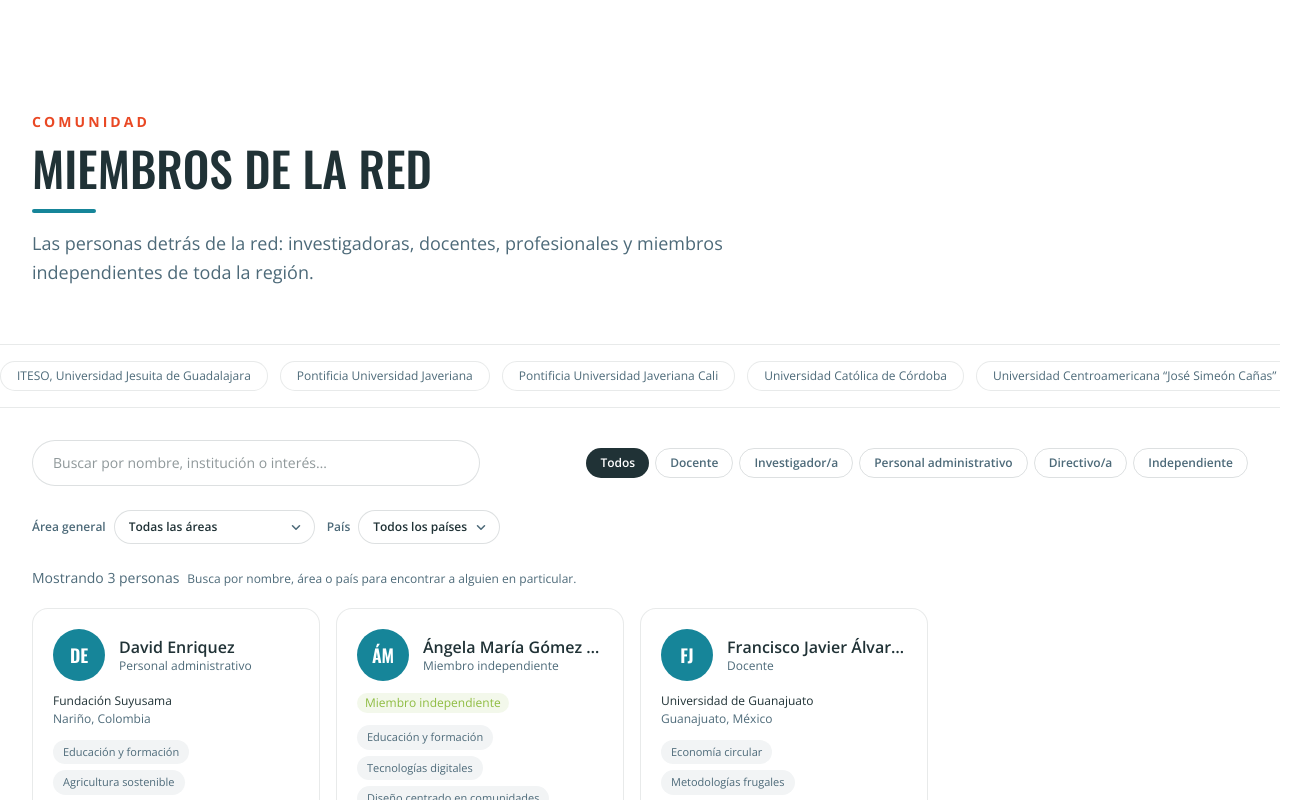
Scenario: MemberDirectory › drops the carousel for a message when nothing matches
In the search field: (256, 463) top-left (32, 440), bottom-right (480, 486), type "zzzznotamember"
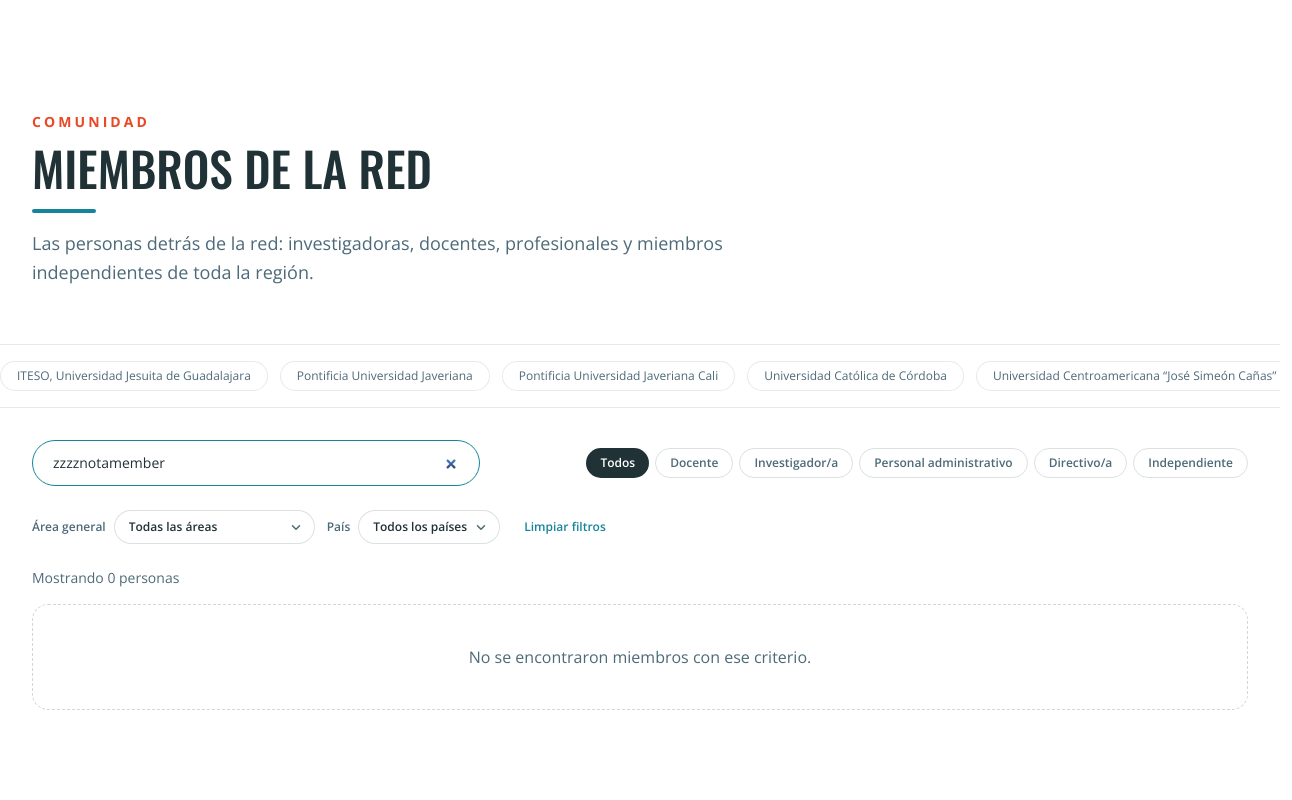
Now the text "No se encontraron miembros con ese criterio." is shown, box top-left (32, 604), bottom-right (1248, 710)
